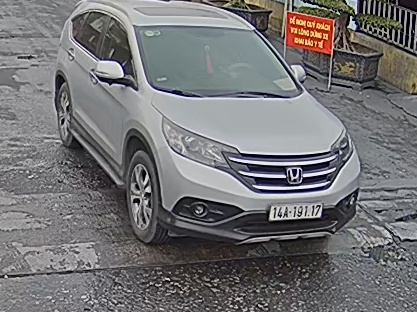vehicle plate: (269, 202, 332, 219)
